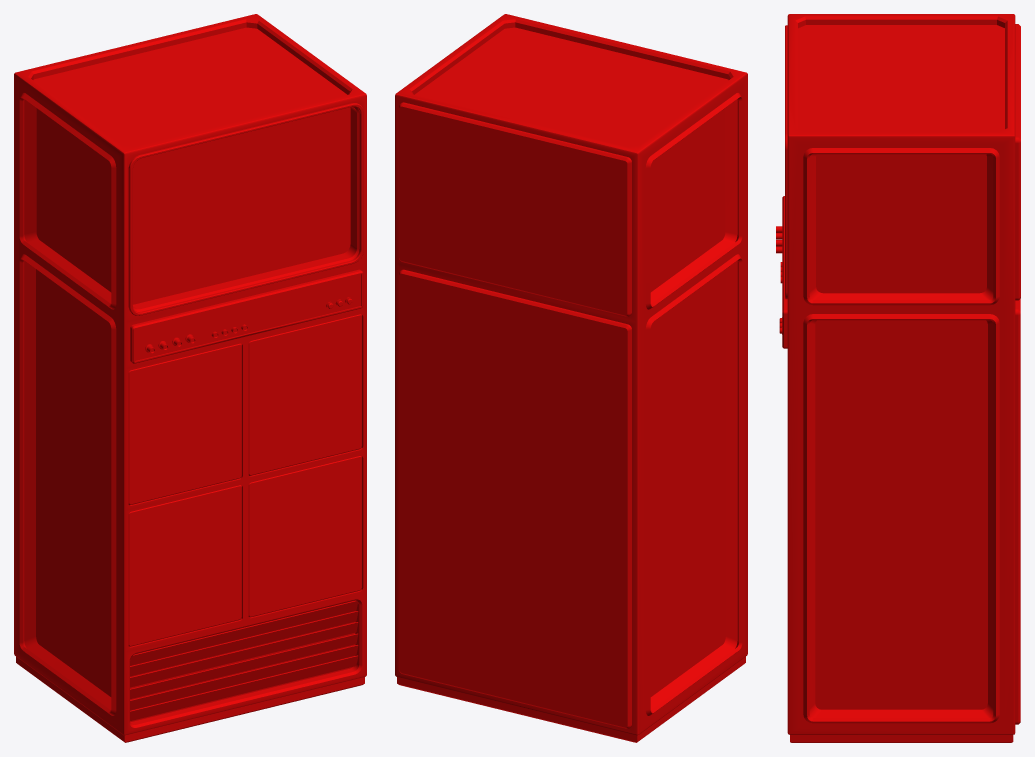
Rendered from Equipment_8.fbx.
3 views of the same model, side by side, from view 1: azimuth 30°, elevation 25°; view 2: azimuth 150°, elevation 25°; view 3: azimuth 270°, elevation 25° (orthographic). The views are drawn at different scales.
Visible parts, largest first — view 1: polySurface18; view 2: polySurface18; view 3: polySurface18.
Part boxes in pixels (x1,y1,x2,y2): polySurface18: (14, 14, 366, 742); polySurface18: (395, 14, 747, 742); polySurface18: (776, 14, 1020, 742).
Size of the model in its own units: 91.47 by 207 by 75.35.
